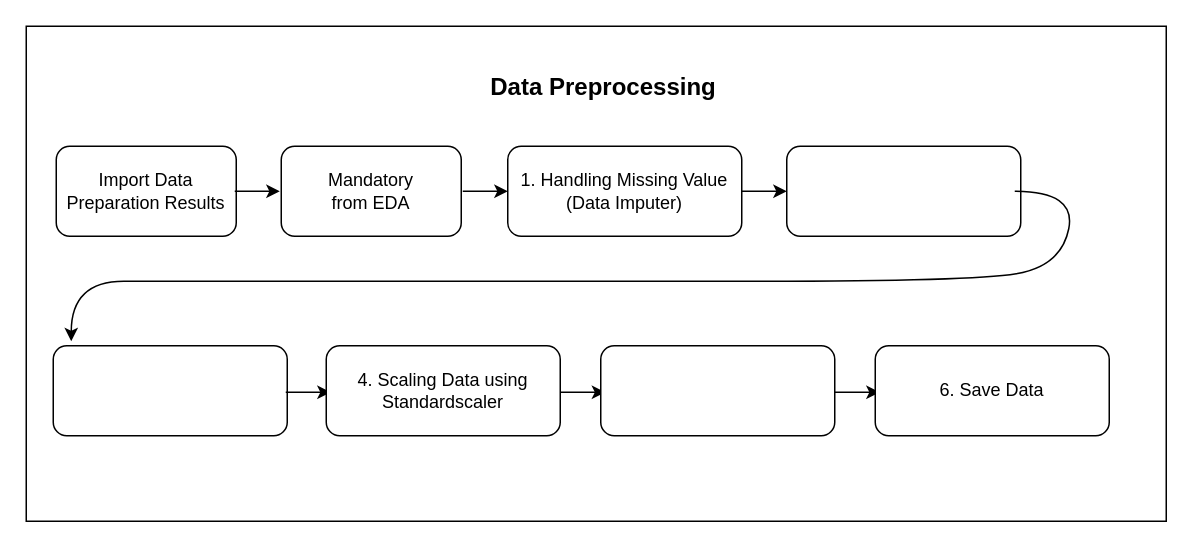
The diagram is 1193 pixels wide and 548 high, and some of its shapes have lost their labels. Each missing label, with the box of its shape:
2. Encoding using Get Dummies: (785, 145, 1021, 236)
3. Balancing Target Data using Random Over Sampling: (52, 344, 287, 436)
5. Sorted Columns - Ascending: (599, 344, 835, 436)
